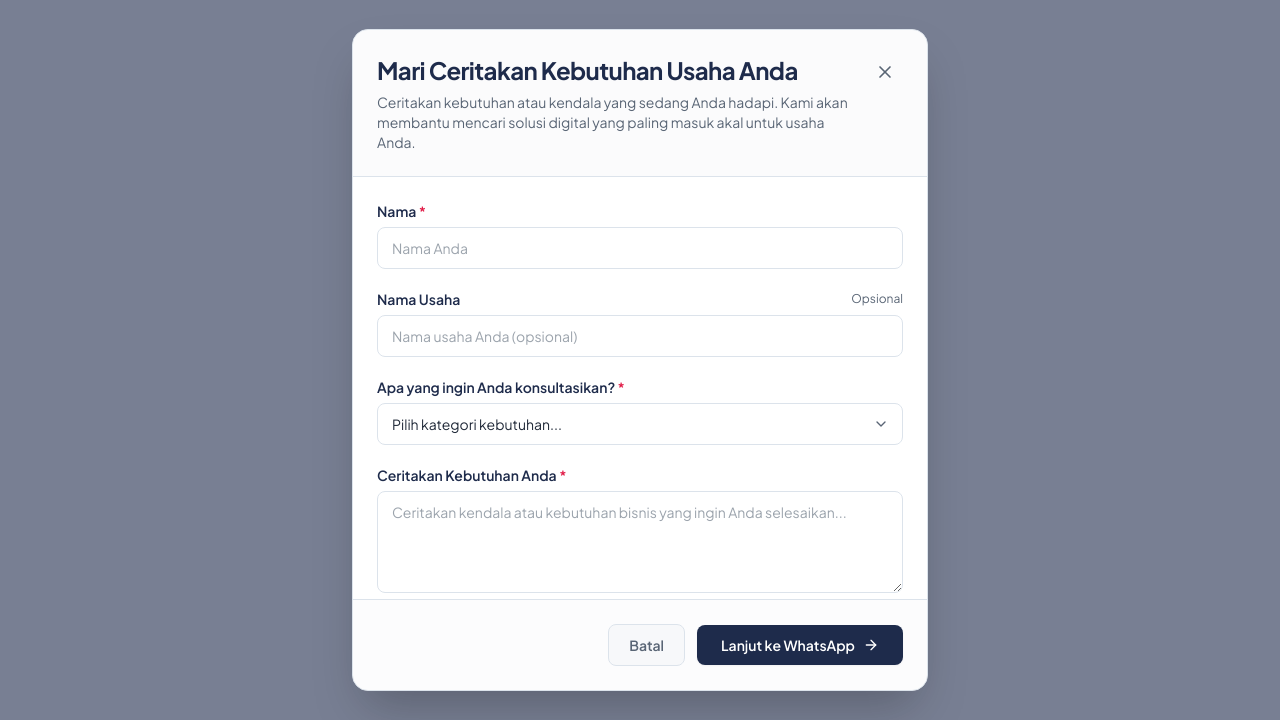
ConsultationModal Component › safely handles unconfigured WhatsApp without clearing form inputs
Type "Doni" into the field with placeholder "Nama Anda" at {"x": 640, "y": 248}, box [377,227,903,269]
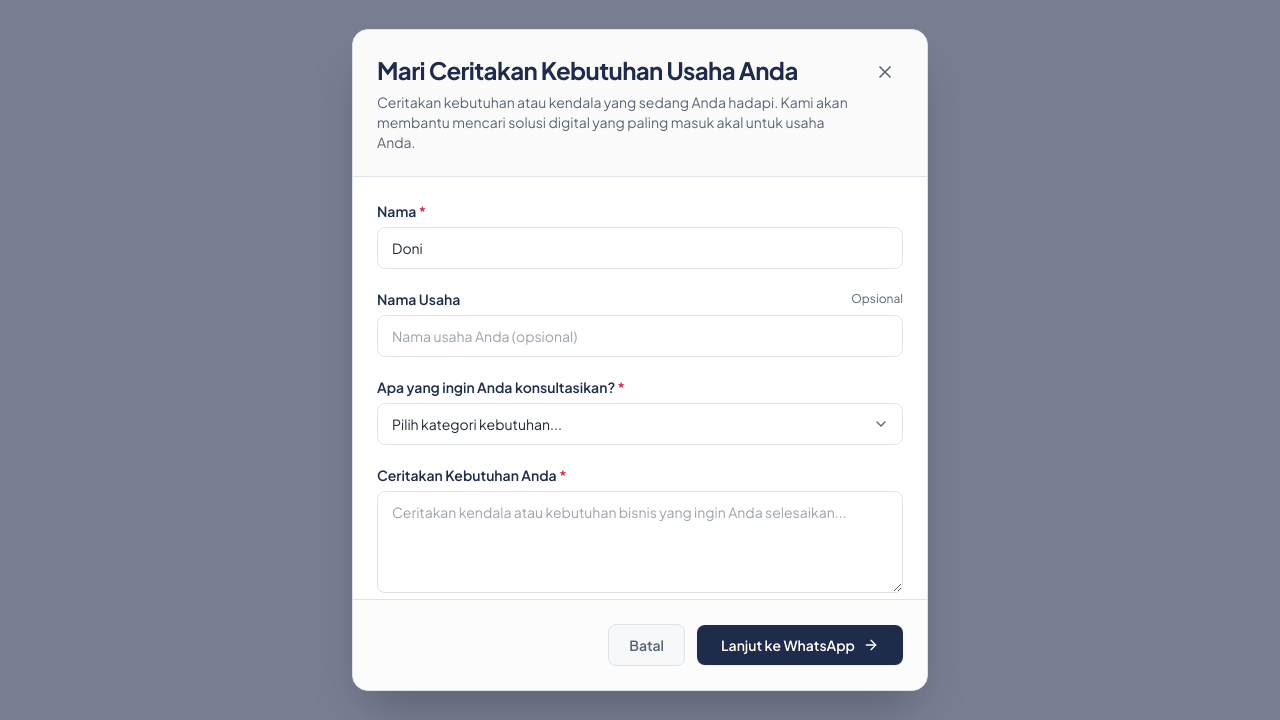
Select "Lainnya" in the dropdown labelled "Apa yang ingin Anda konsultasikan? *" at {"x": 640, "y": 424}, box [377,403,903,445]
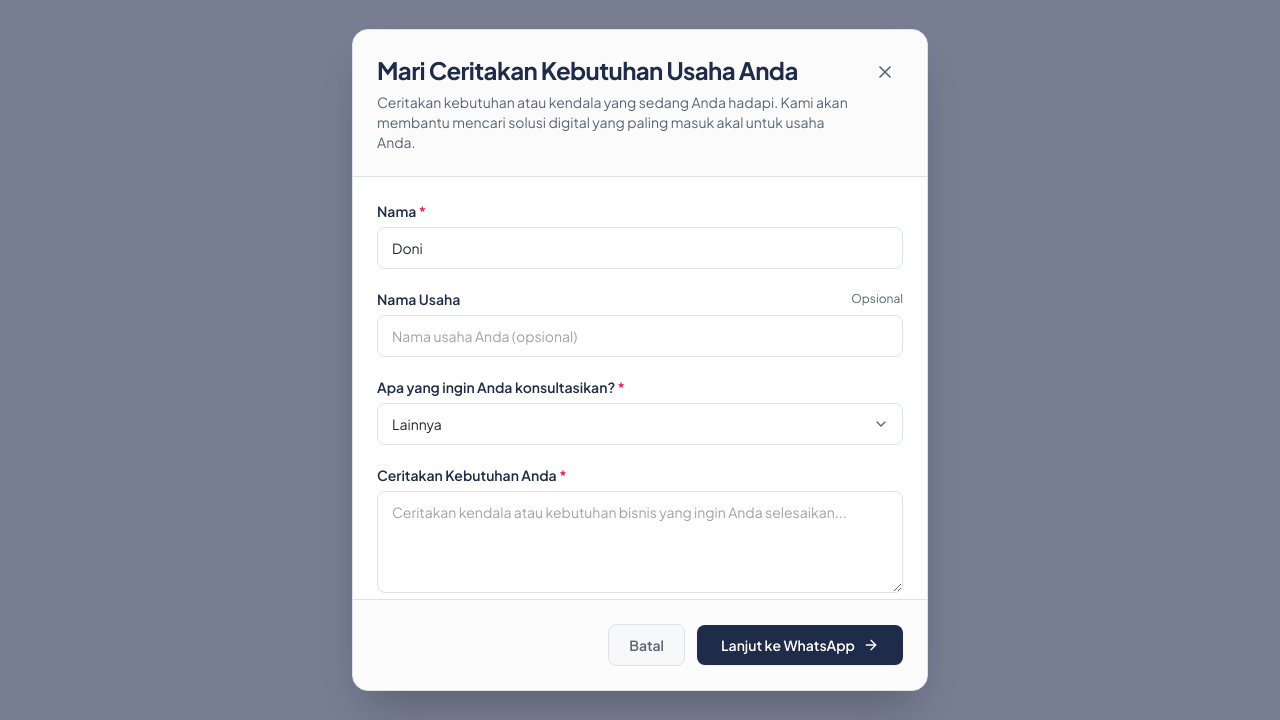
Replace the text in the text box with placeholder "Ceritakan kendala atau kebutuhan bisnis yang ingin Anda selesaikan..." with "Konsultasi integrasi sistem internal." at {"x": 640, "y": 542}, box [377,491,903,593]
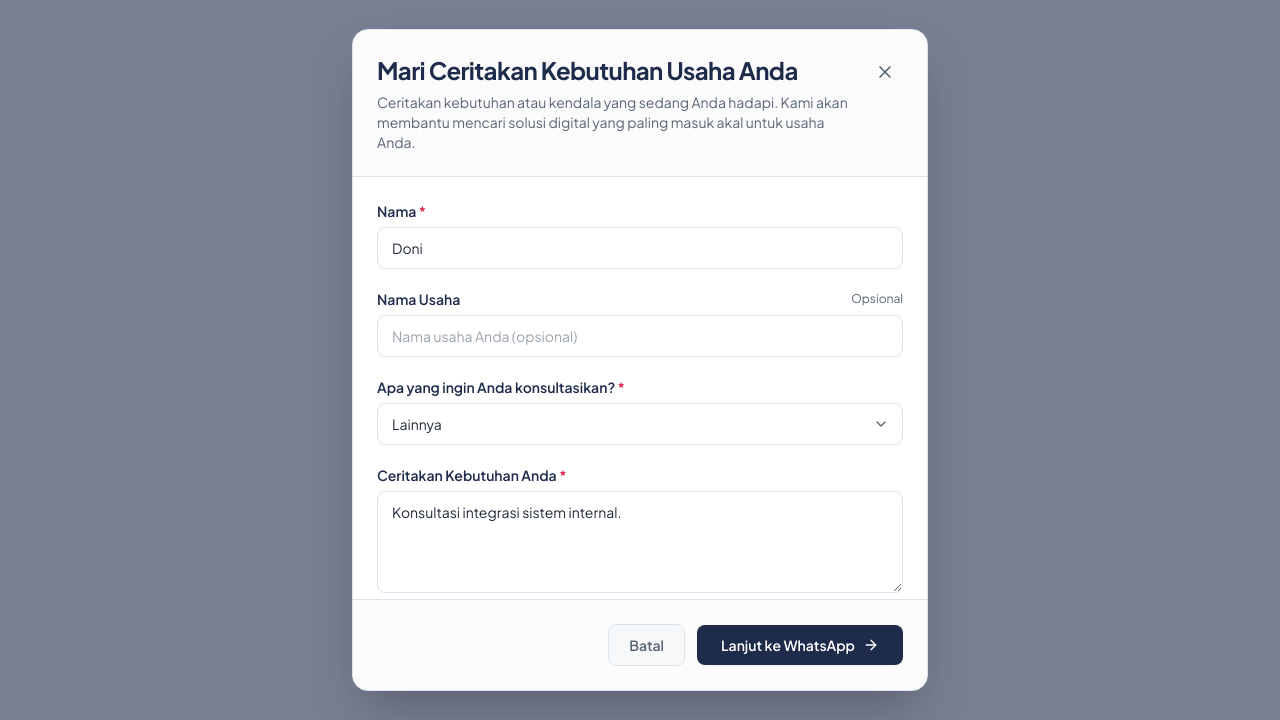
Click the button "Lanjut ke WhatsApp" at {"x": 800, "y": 645}, box [697,625,903,665]
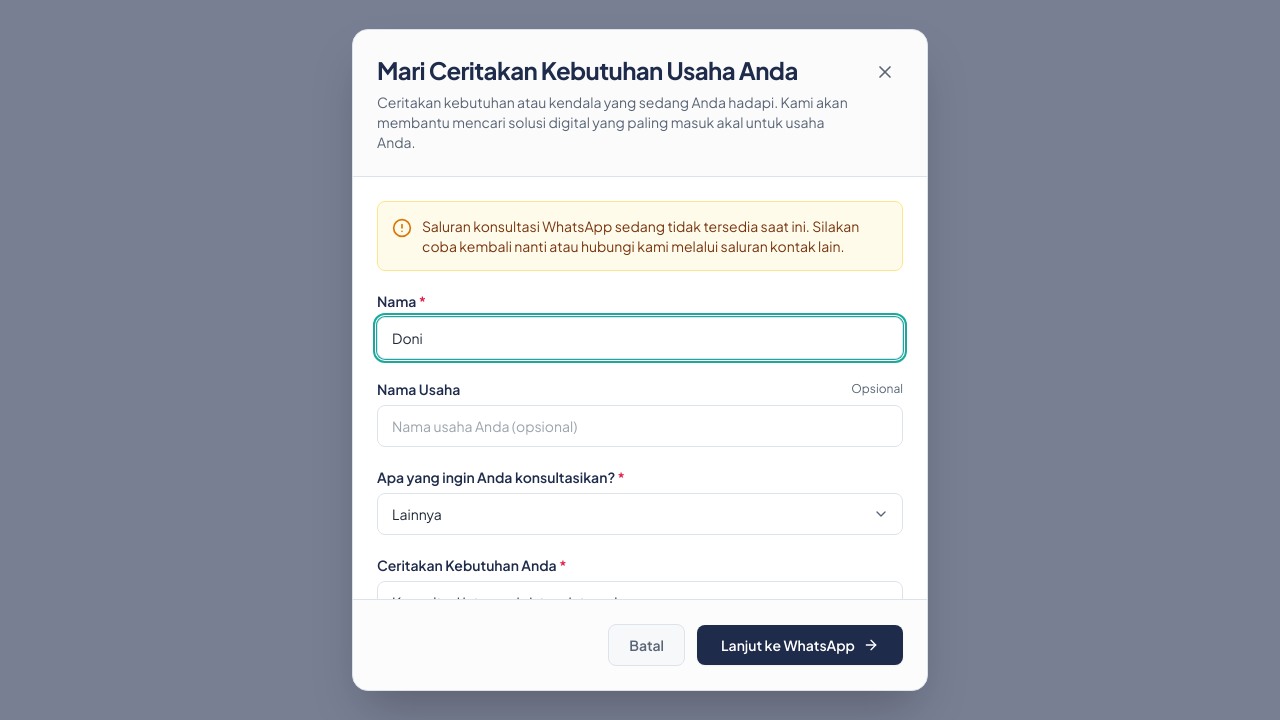
Now the text "Saluran konsultasi WhatsApp sedang tidak tersedia saat ini" is shown, box [422,217,859,255]
